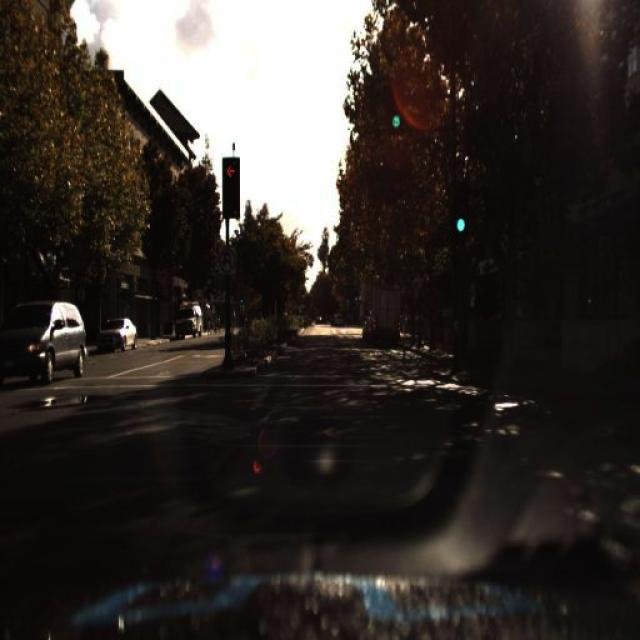semaforo: (221, 157, 240, 220), (448, 182, 468, 238), (386, 81, 404, 135)
